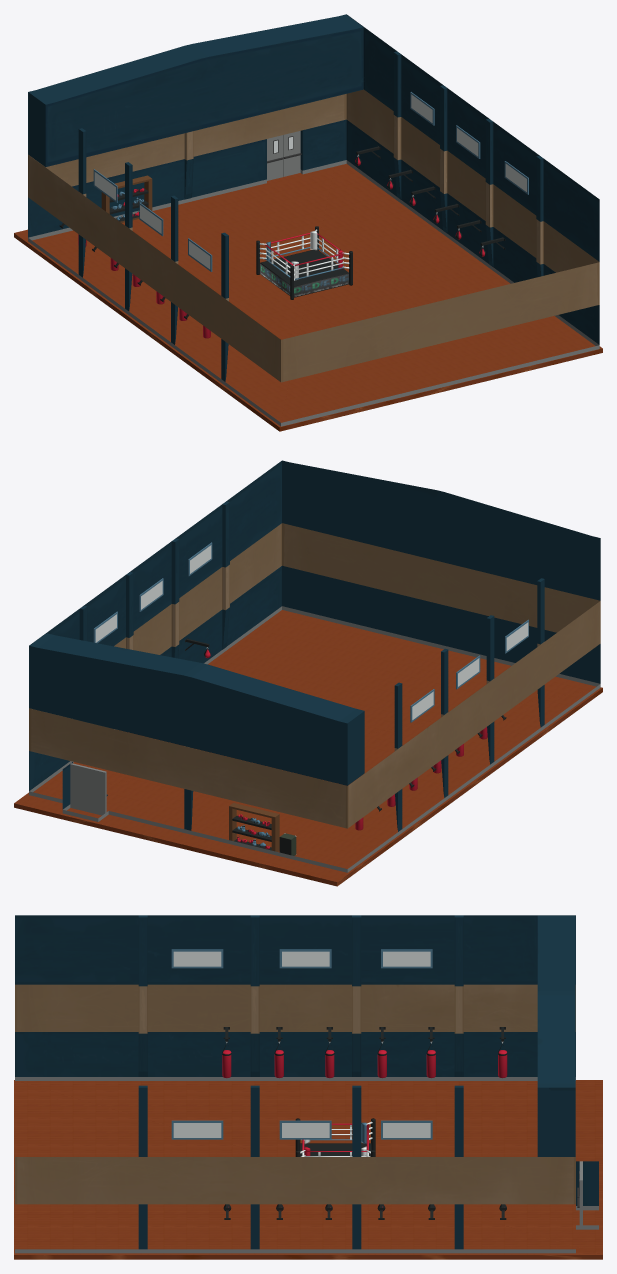
File: BoxSinLucesV10.fbx
3 views of the same model, one above another, from view 1: azimuth 30°, elevation 25°; view 2: azimuth 150°, elevation 25°; view 3: azimuth 270°, elevation 25° (orthographic). The views are drawn at different scales.
Parts seen in each view (by area): view 1: edificio, piso, castillos, ring, puerta, estante, cuerdas; view 2: edificio, piso, castillos, puerta, estante; view 3: edificio, piso, castillos, Cube.004, Cube.001, Cube.005, Cube.002, ventana, Cube.003, ring.
Part boxes in pixels (x1,y1,x2,y2): edificio: (28, 14, 599, 426); piso: (14, 163, 602, 431); castillos: (78, 51, 543, 381); ring: (260, 250, 348, 297); puerta: (267, 131, 301, 180); estante: (101, 175, 152, 222); cuerdas: (271, 233, 344, 279); edificio: (29, 460, 600, 872); piso: (14, 610, 602, 886); castillos: (79, 501, 544, 831); puerta: (70, 763, 107, 815); estante: (229, 803, 279, 851); edificio: (15, 915, 598, 1253); piso: (14, 1080, 602, 1259); castillos: (138, 915, 463, 1249); Cube.004: (279, 1120, 331, 1139); Cube.001: (279, 949, 331, 968); Cube.005: (171, 1120, 223, 1139); Cube.002: (171, 949, 223, 968); ventana: (381, 949, 432, 968); Cube.003: (381, 1120, 432, 1139); ring: (299, 1143, 371, 1156).
Bounding box in the file's own units: 4069 × 1945 × 5791.
